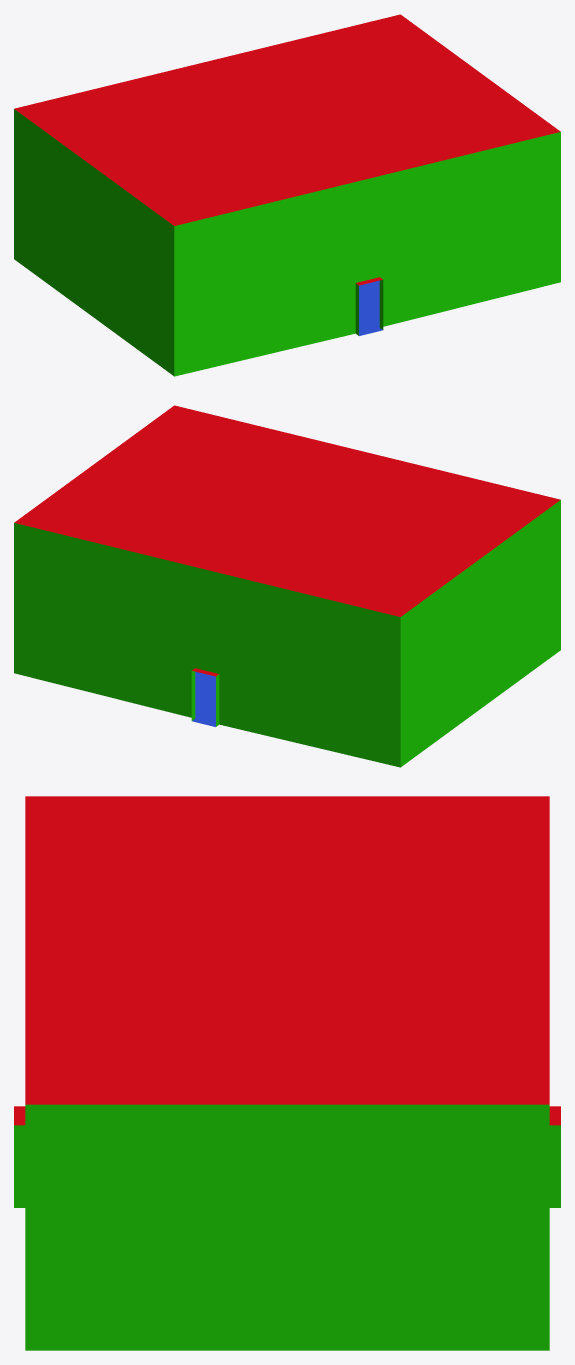
Rendered from 8x6_Room_Tall.fbx.
3 renders of one model, top to bottom at view 1: azimuth 30°, elevation 25°; view 2: azimuth 150°, elevation 25°; view 3: azimuth 270°, elevation 25°, orthographic. The views are drawn at different scales.
Visible parts, largest first — view 1: 8x6 Room Tall; view 2: 8x6 Room Tall; view 3: 8x6 Room Tall.
Boxes of the visible parts, box(x1,y1,x2,y2) form: 8x6 Room Tall: box(14, 14, 560, 376); 8x6 Room Tall: box(14, 405, 560, 767); 8x6 Room Tall: box(14, 796, 560, 1350).
Size of the model in its own units: 6400 by 2400 by 4800.
